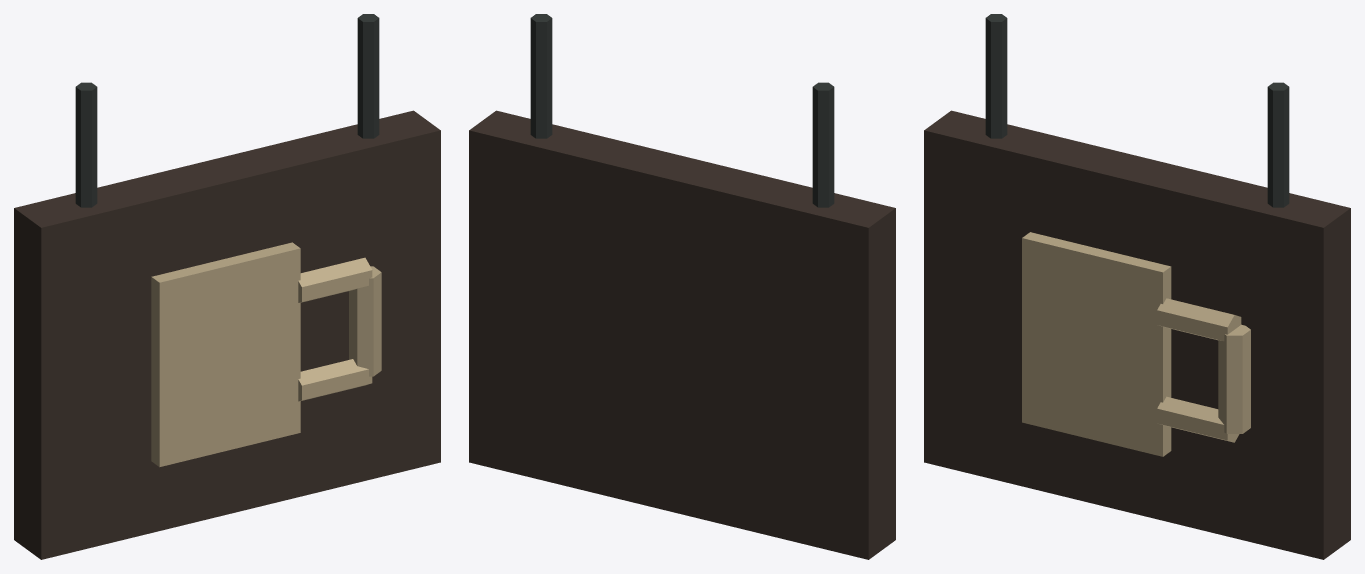
The model's file is sign_inn.glb.
The picture shows the model from 3 angles, left to right: view 1: azimuth 30°, elevation 25°; view 2: azimuth 150°, elevation 25°; view 3: azimuth 330°, elevation 25°; orthographic projection.
Visible parts, largest first — view 1: signboard.005, mug mark, mug handle.002, sign chain.010, sign chain.011, mug handle.001, mug handle; view 2: signboard.005, sign chain.010, sign chain.011; view 3: signboard.005, mug mark, mug handle.002, sign chain.011, sign chain.010, mug handle.001, mug handle.
Part boxes in pixels (left/top/right/bottom): signboard.005: left=14, top=110, right=440, bottom=559; mug mark: left=151, top=242, right=300, bottom=467; mug handle.002: left=349, top=266, right=381, bottom=376; sign chain.010: left=75, top=82, right=97, bottom=207; sign chain.011: left=357, top=14, right=379, bottom=138; mug handle.001: left=298, top=257, right=372, bottom=302; mug handle: left=298, top=359, right=372, bottom=401; signboard.005: left=469, top=110, right=895, bottom=559; sign chain.010: left=812, top=82, right=834, bottom=207; sign chain.011: left=530, top=14, right=552, bottom=138; signboard.005: left=924, top=110, right=1350, bottom=559; mug mark: left=1022, top=232, right=1171, bottom=456; mug handle.002: left=1218, top=324, right=1250, bottom=433; sign chain.011: left=1267, top=82, right=1289, bottom=207; sign chain.010: left=985, top=14, right=1007, bottom=138; mug handle.001: left=1157, top=298, right=1241, bottom=341; mug handle: left=1157, top=396, right=1239, bottom=442.
Bounding box in the file's own units: 0.34 × 0.365 × 0.062.
